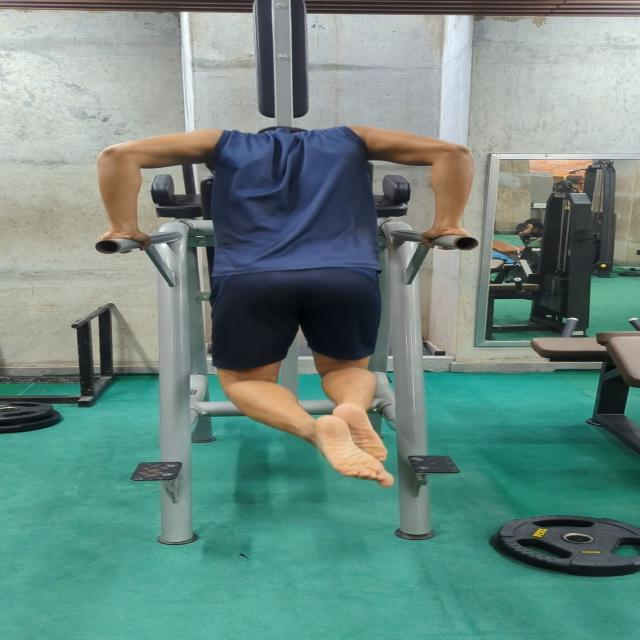Normal_Dips: (80, 107, 501, 490)
